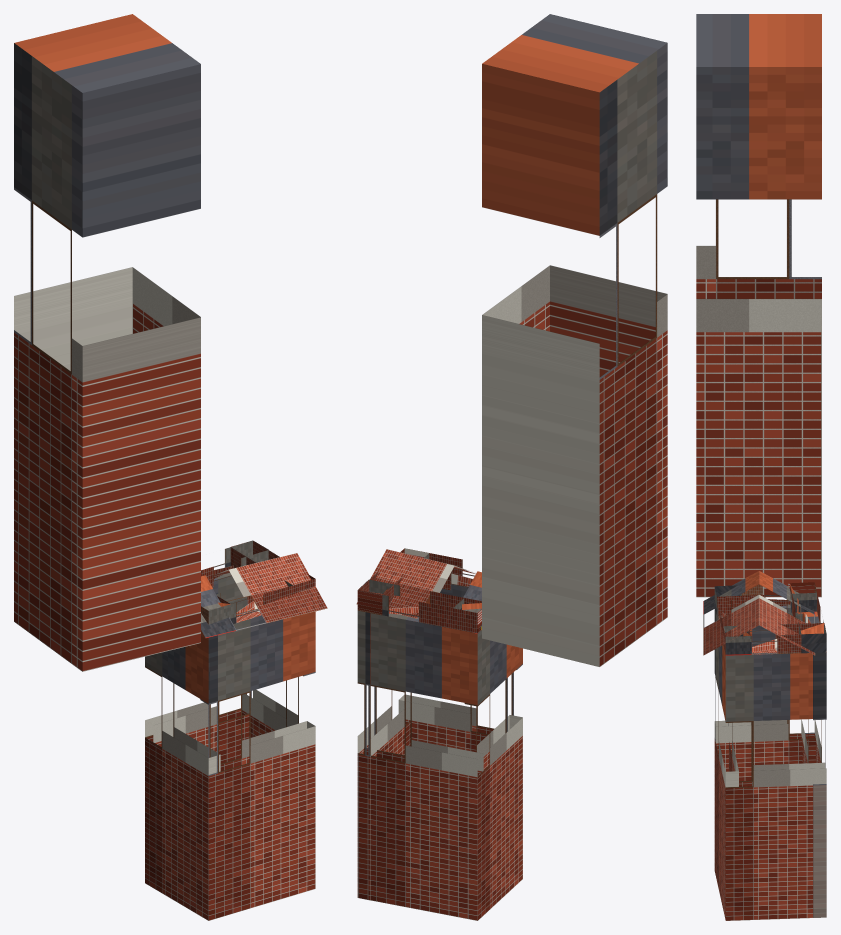
3 views of the same model, side by side, from view 1: azimuth 30°, elevation 25°; view 2: azimuth 150°, elevation 25°; view 3: azimuth 270°, elevation 25° (orthographic). The views are drawn at different scales.
Visible parts, largest first — view 1: 1106966925__chimney_0_xb, 1106966925__wall_0_xb, 1106966925__wall_3_xb, 1106966925_roof_-1_xb, 1106966925__wall_2_xb, 1106966925__wall_1_xb, 1106966925__cornice_0, 1106966925__cornice_2; view 2: 1106966925__chimney_0_xb, 1106966925__wall_2_xb, 1106966925__wall_3_xb, 1106966925__wall_1_xb, 1106966925__wall_0_xb, 1106966925_roof_1_xb, 1106966925__cornice_2, 1106966925__cornice_1, 1106966925__cornice_0; view 3: 1106966925__chimney_0_xb, 1106966925__wall_1_xb, 1106966925__wall_3_xb, 1106966925__wall_2_xb, 1106966925__wall_0_xb, 1106966925_roof_-1_xb, 1106966925__cornice_1, 1106966925_roof_1_xb, 1106966925__cornice_3, 1106966925__cornice_2, 1106966925__cornice_0.
Boxes of the visible parts, box(x1,y1,x2,y2) form: 1106966925__chimney_0_xb: box(14, 14, 200, 671); 1106966925__wall_0_xb: box(200, 611, 315, 920); 1106966925__wall_3_xb: box(145, 630, 220, 920); 1106966925_roof_-1_xb: box(201, 553, 327, 637); 1106966925__wall_2_xb: box(145, 573, 251, 763); 1106966925__wall_1_xb: box(242, 672, 315, 737); 1106966925__cornice_0: box(208, 574, 315, 624); 1106966925__cornice_2: box(201, 540, 268, 587); 1106966925__chimney_0_xb: box(482, 14, 667, 666); 1106966925__wall_2_xb: box(364, 613, 483, 920); 1106966925__wall_3_xb: box(464, 630, 522, 920); 1106966925__wall_1_xb: box(357, 610, 410, 900); 1106966925__wall_0_xb: box(398, 585, 522, 751); 1106966925_roof_1_xb: box(356, 549, 481, 633); 1106966925__cornice_2: box(360, 579, 481, 633); 1106966925__cornice_1: box(357, 548, 429, 615); 1106966925__cornice_0: box(400, 548, 474, 590); 1106966925__chimney_0_xb: box(696, 14, 821, 597); 1106966925__wall_1_xb: box(725, 653, 826, 920); 1106966925__wall_3_xb: box(714, 605, 815, 781); 1106966925__wall_2_xb: box(801, 611, 826, 917); 1106966925__wall_0_xb: box(714, 609, 738, 919); 1106966925_roof_-1_xb: box(703, 571, 759, 655); 1106966925__cornice_1: box(723, 623, 826, 655); 1106966925_roof_1_xb: box(759, 571, 815, 655); 1106966925__cornice_3: box(717, 583, 816, 615); 1106966925__cornice_2: box(789, 582, 826, 653); 1106966925__cornice_0: box(714, 585, 750, 654).
Size of the model in its own units: 0.3151 by 1.05 by 0.1555.
1 material, 1 textured.
